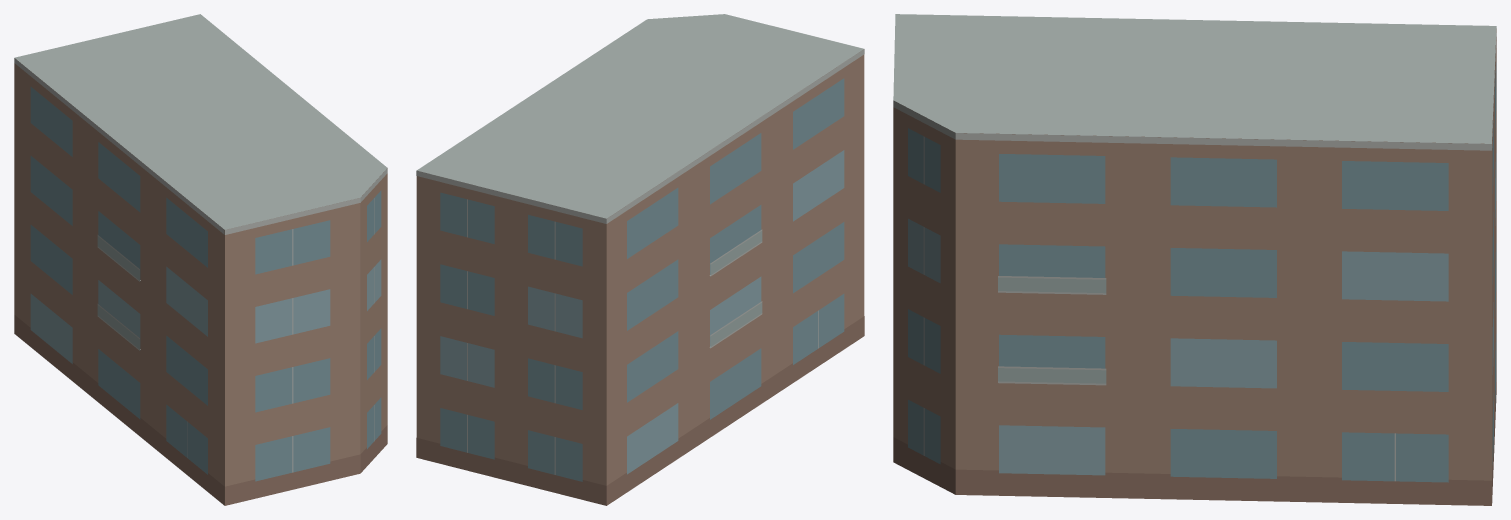
Rendered from survey-upis-32744237.glb.
3 views of the same model, side by side, from view 1: azimuth 30°, elevation 25°; view 2: azimuth 150°, elevation 25°; view 3: azimuth 270°, elevation 25° (orthographic). The views are drawn at different scales.
Parts seen in each view (by area): view 1: survey-upis-32744237.tmp; view 2: survey-upis-32744237.tmp; view 3: survey-upis-32744237.tmp.
Boxes of the visible parts, x1,y1,x2,y2 form: survey-upis-32744237.tmp: [14, 14, 387, 505]; survey-upis-32744237.tmp: [416, 14, 864, 505]; survey-upis-32744237.tmp: [893, 14, 1496, 505].
Size of the model in its own units: 10.02 by 13 by 19.65.
